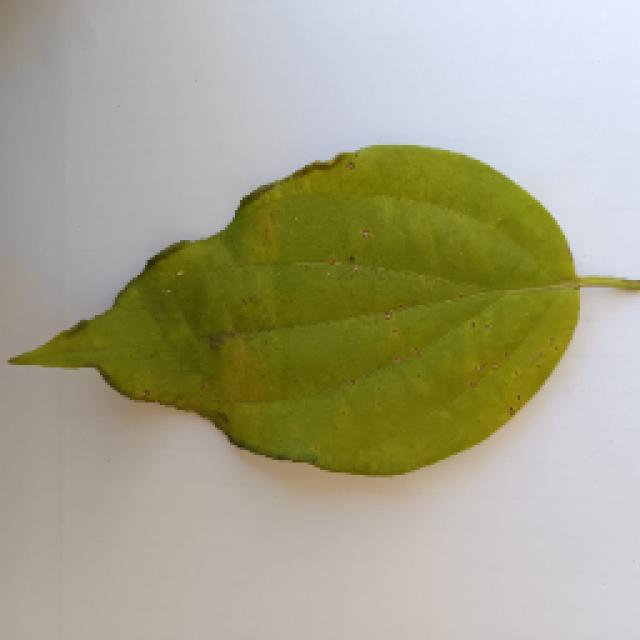slow-decline: (2, 122, 628, 480)
